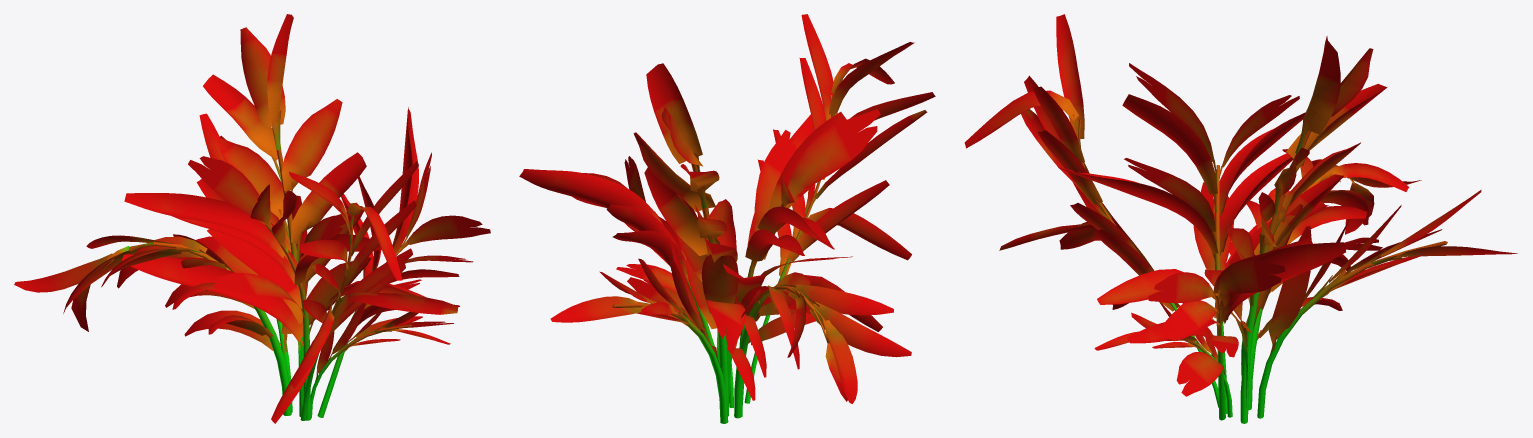
File: Var2_LOD0.fbx
3 views of the same model, side by side, from view 1: azimuth 30°, elevation 25°; view 2: azimuth 150°, elevation 25°; view 3: azimuth 270°, elevation 25° (orthographic). The views are drawn at different scales.
Visible parts, largest first — view 1: _97bb_Var2_LOD0; view 2: _97bb_Var2_LOD0; view 3: _97bb_Var2_LOD0.
Boxes of the visible parts, left/top/right/bottom form: _97bb_Var2_LOD0: left=14, top=14, right=490, bottom=423; _97bb_Var2_LOD0: left=519, top=14, right=935, bottom=423; _97bb_Var2_LOD0: left=964, top=14, right=1517, bottom=423.
Bounding box in the file's own units: 212 × 205 × 258.
